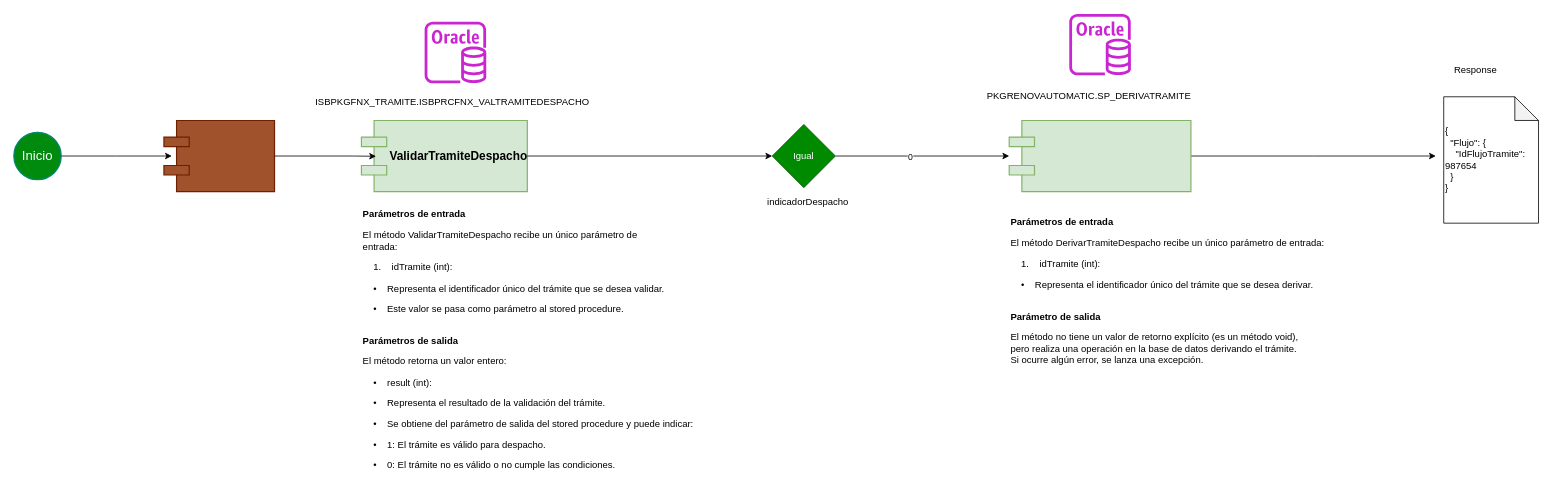
This 1553x501 diagram has some shape labels left out. The shapes that lost their labels are listed below. From the top down, each one's centre as x and y in pixels, then its label:
At [219,156]: "DerivarTramite".
At [1099,156]: "DerivarTramiteDespacho".
